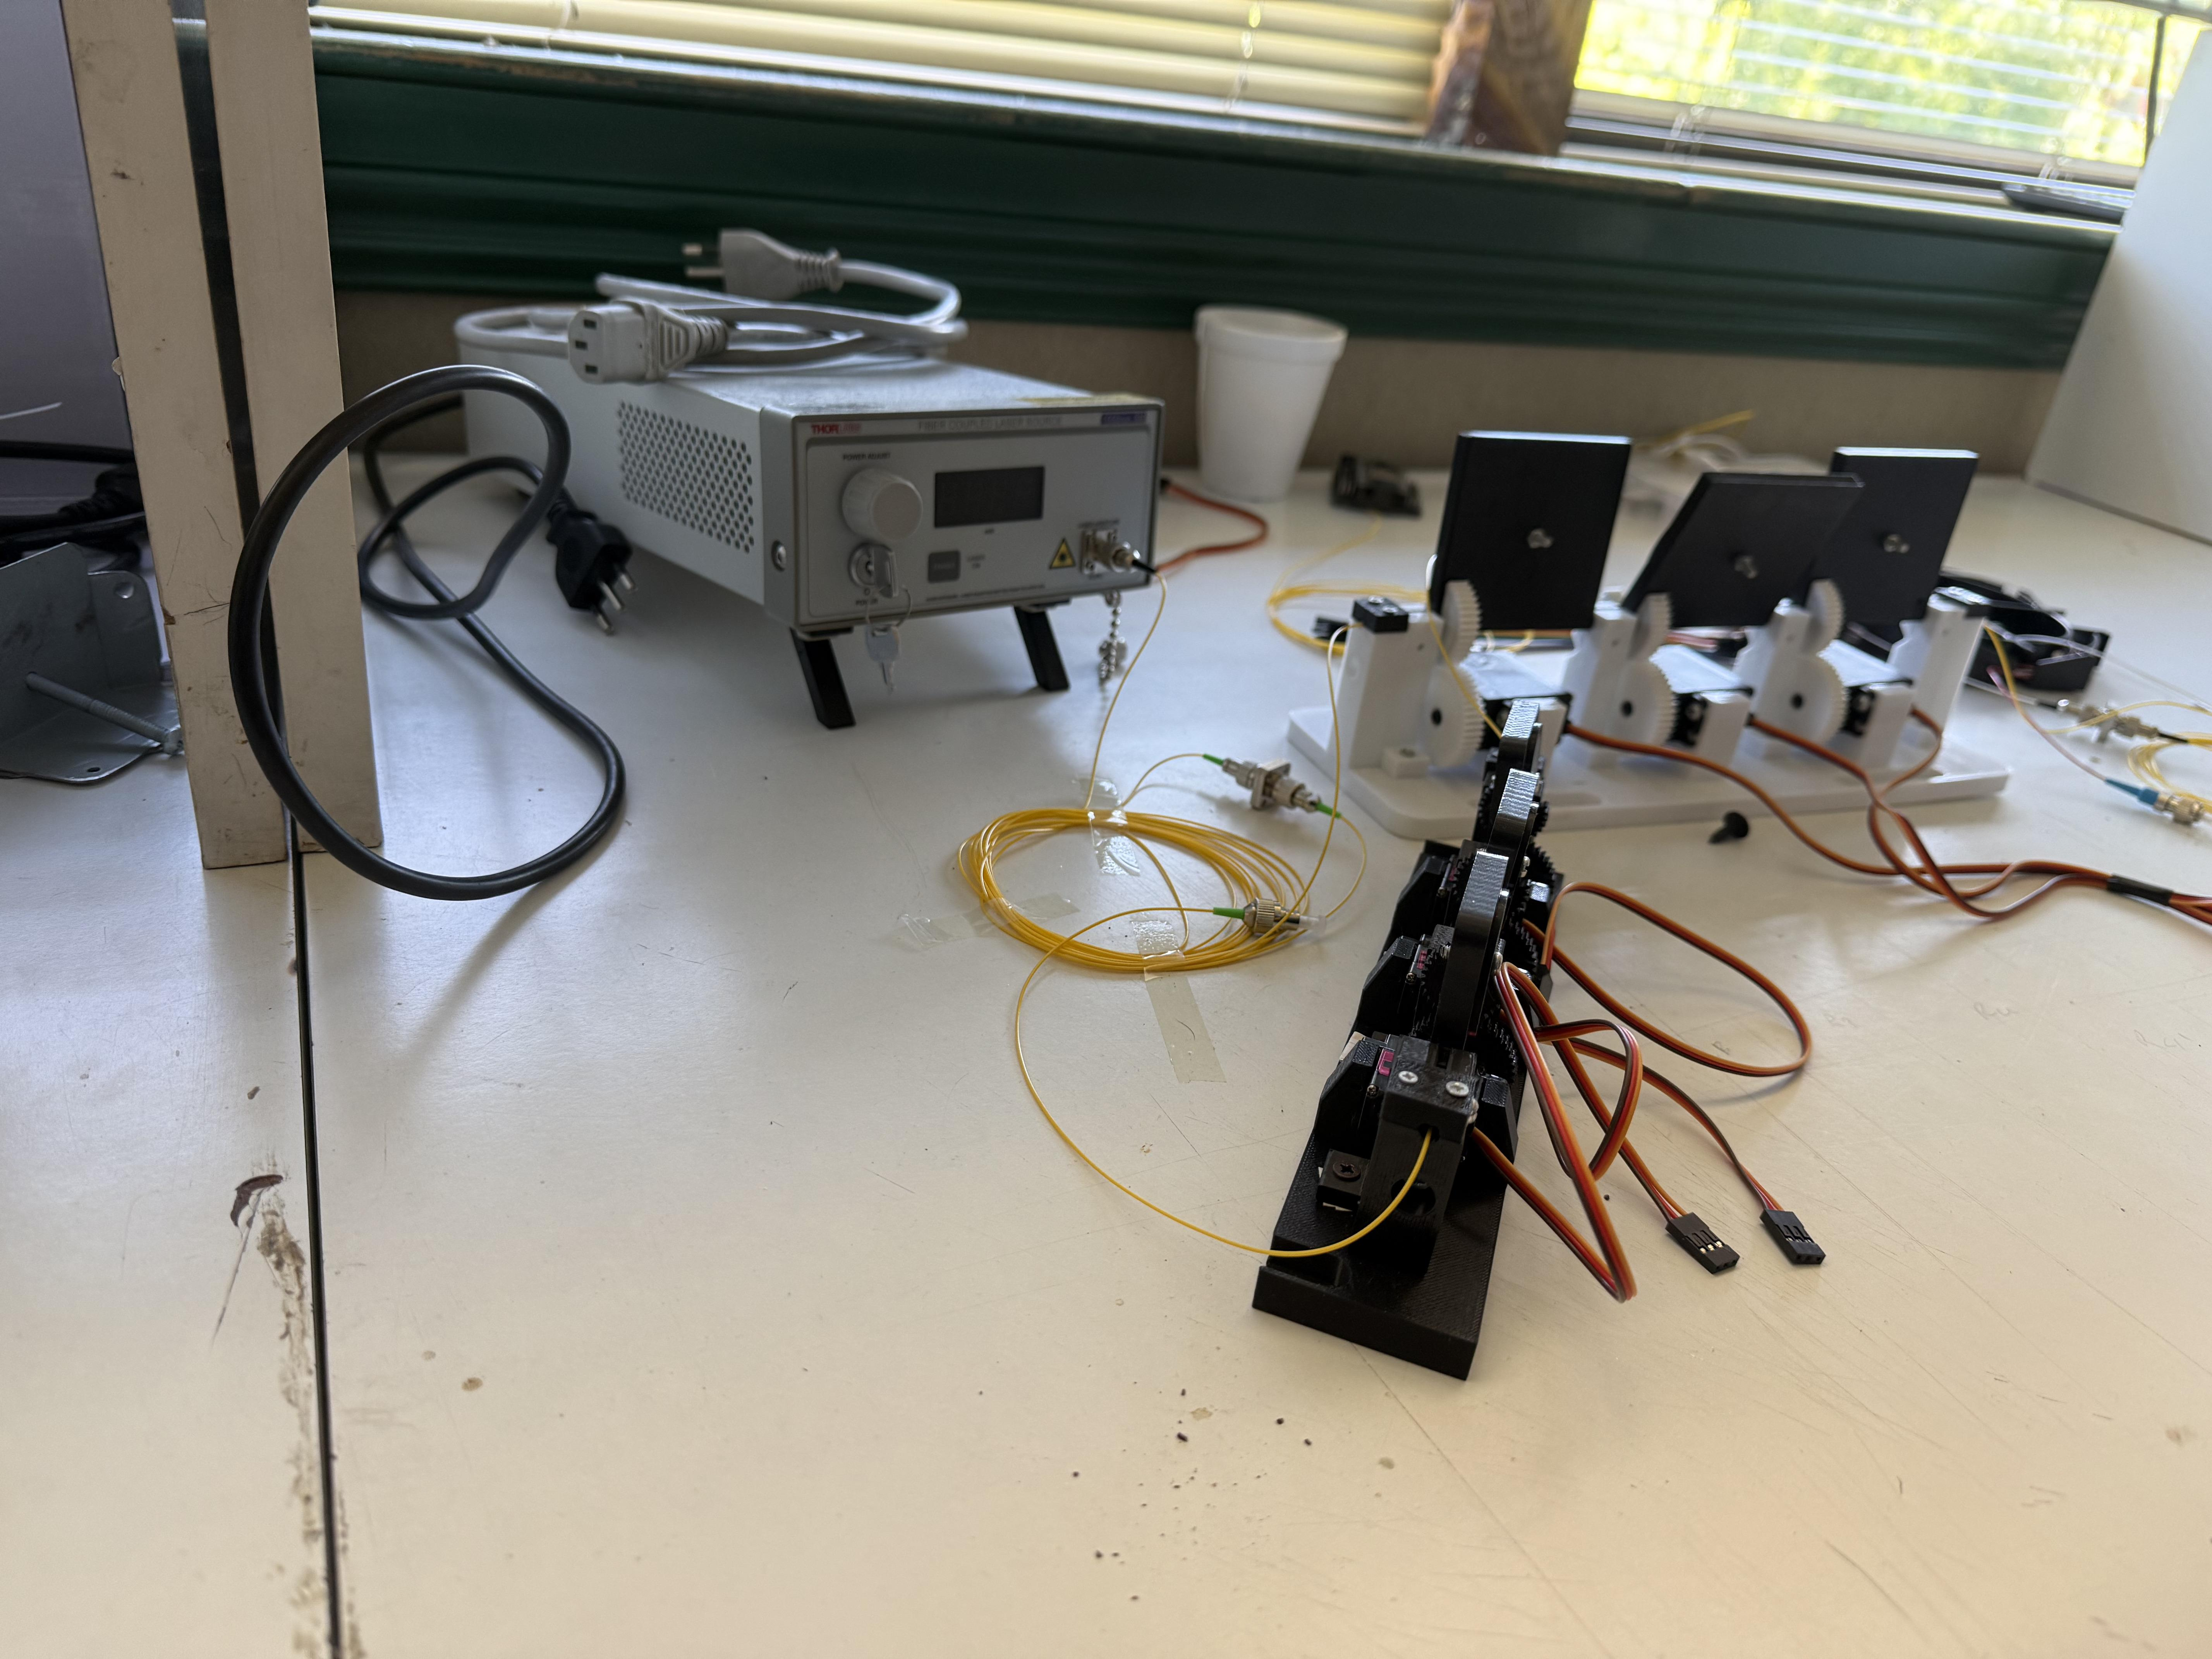fiber_cable: (920, 760, 1367, 1016)
laser: (420, 220, 1186, 777)
paddle_polarization_controller: (1261, 389, 2090, 866), (1216, 681, 1592, 1396)
